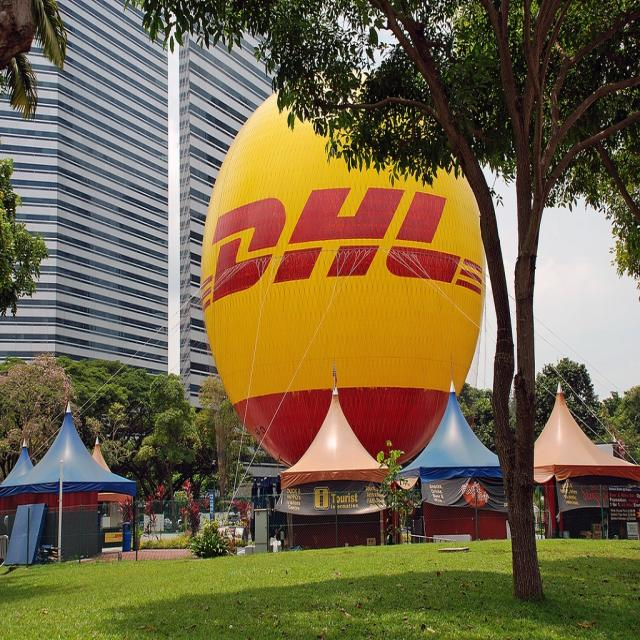dhl: (194, 174, 492, 315)
